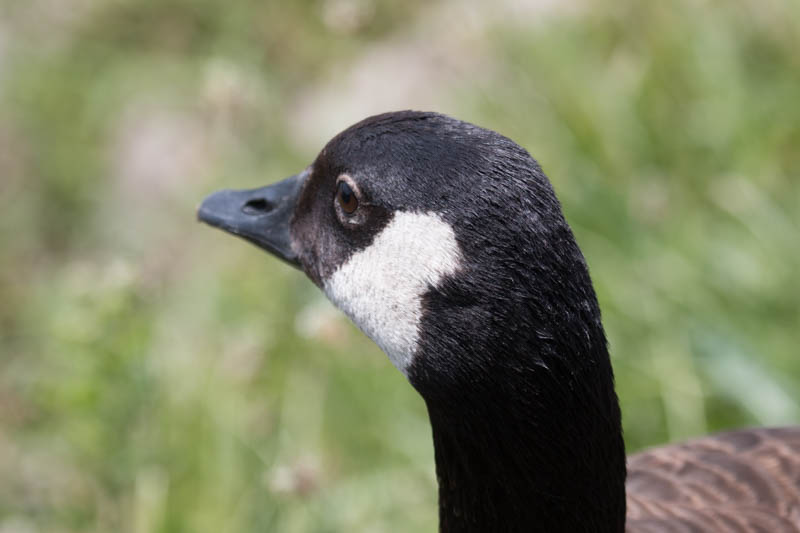goose-head: (195, 109, 616, 404)
